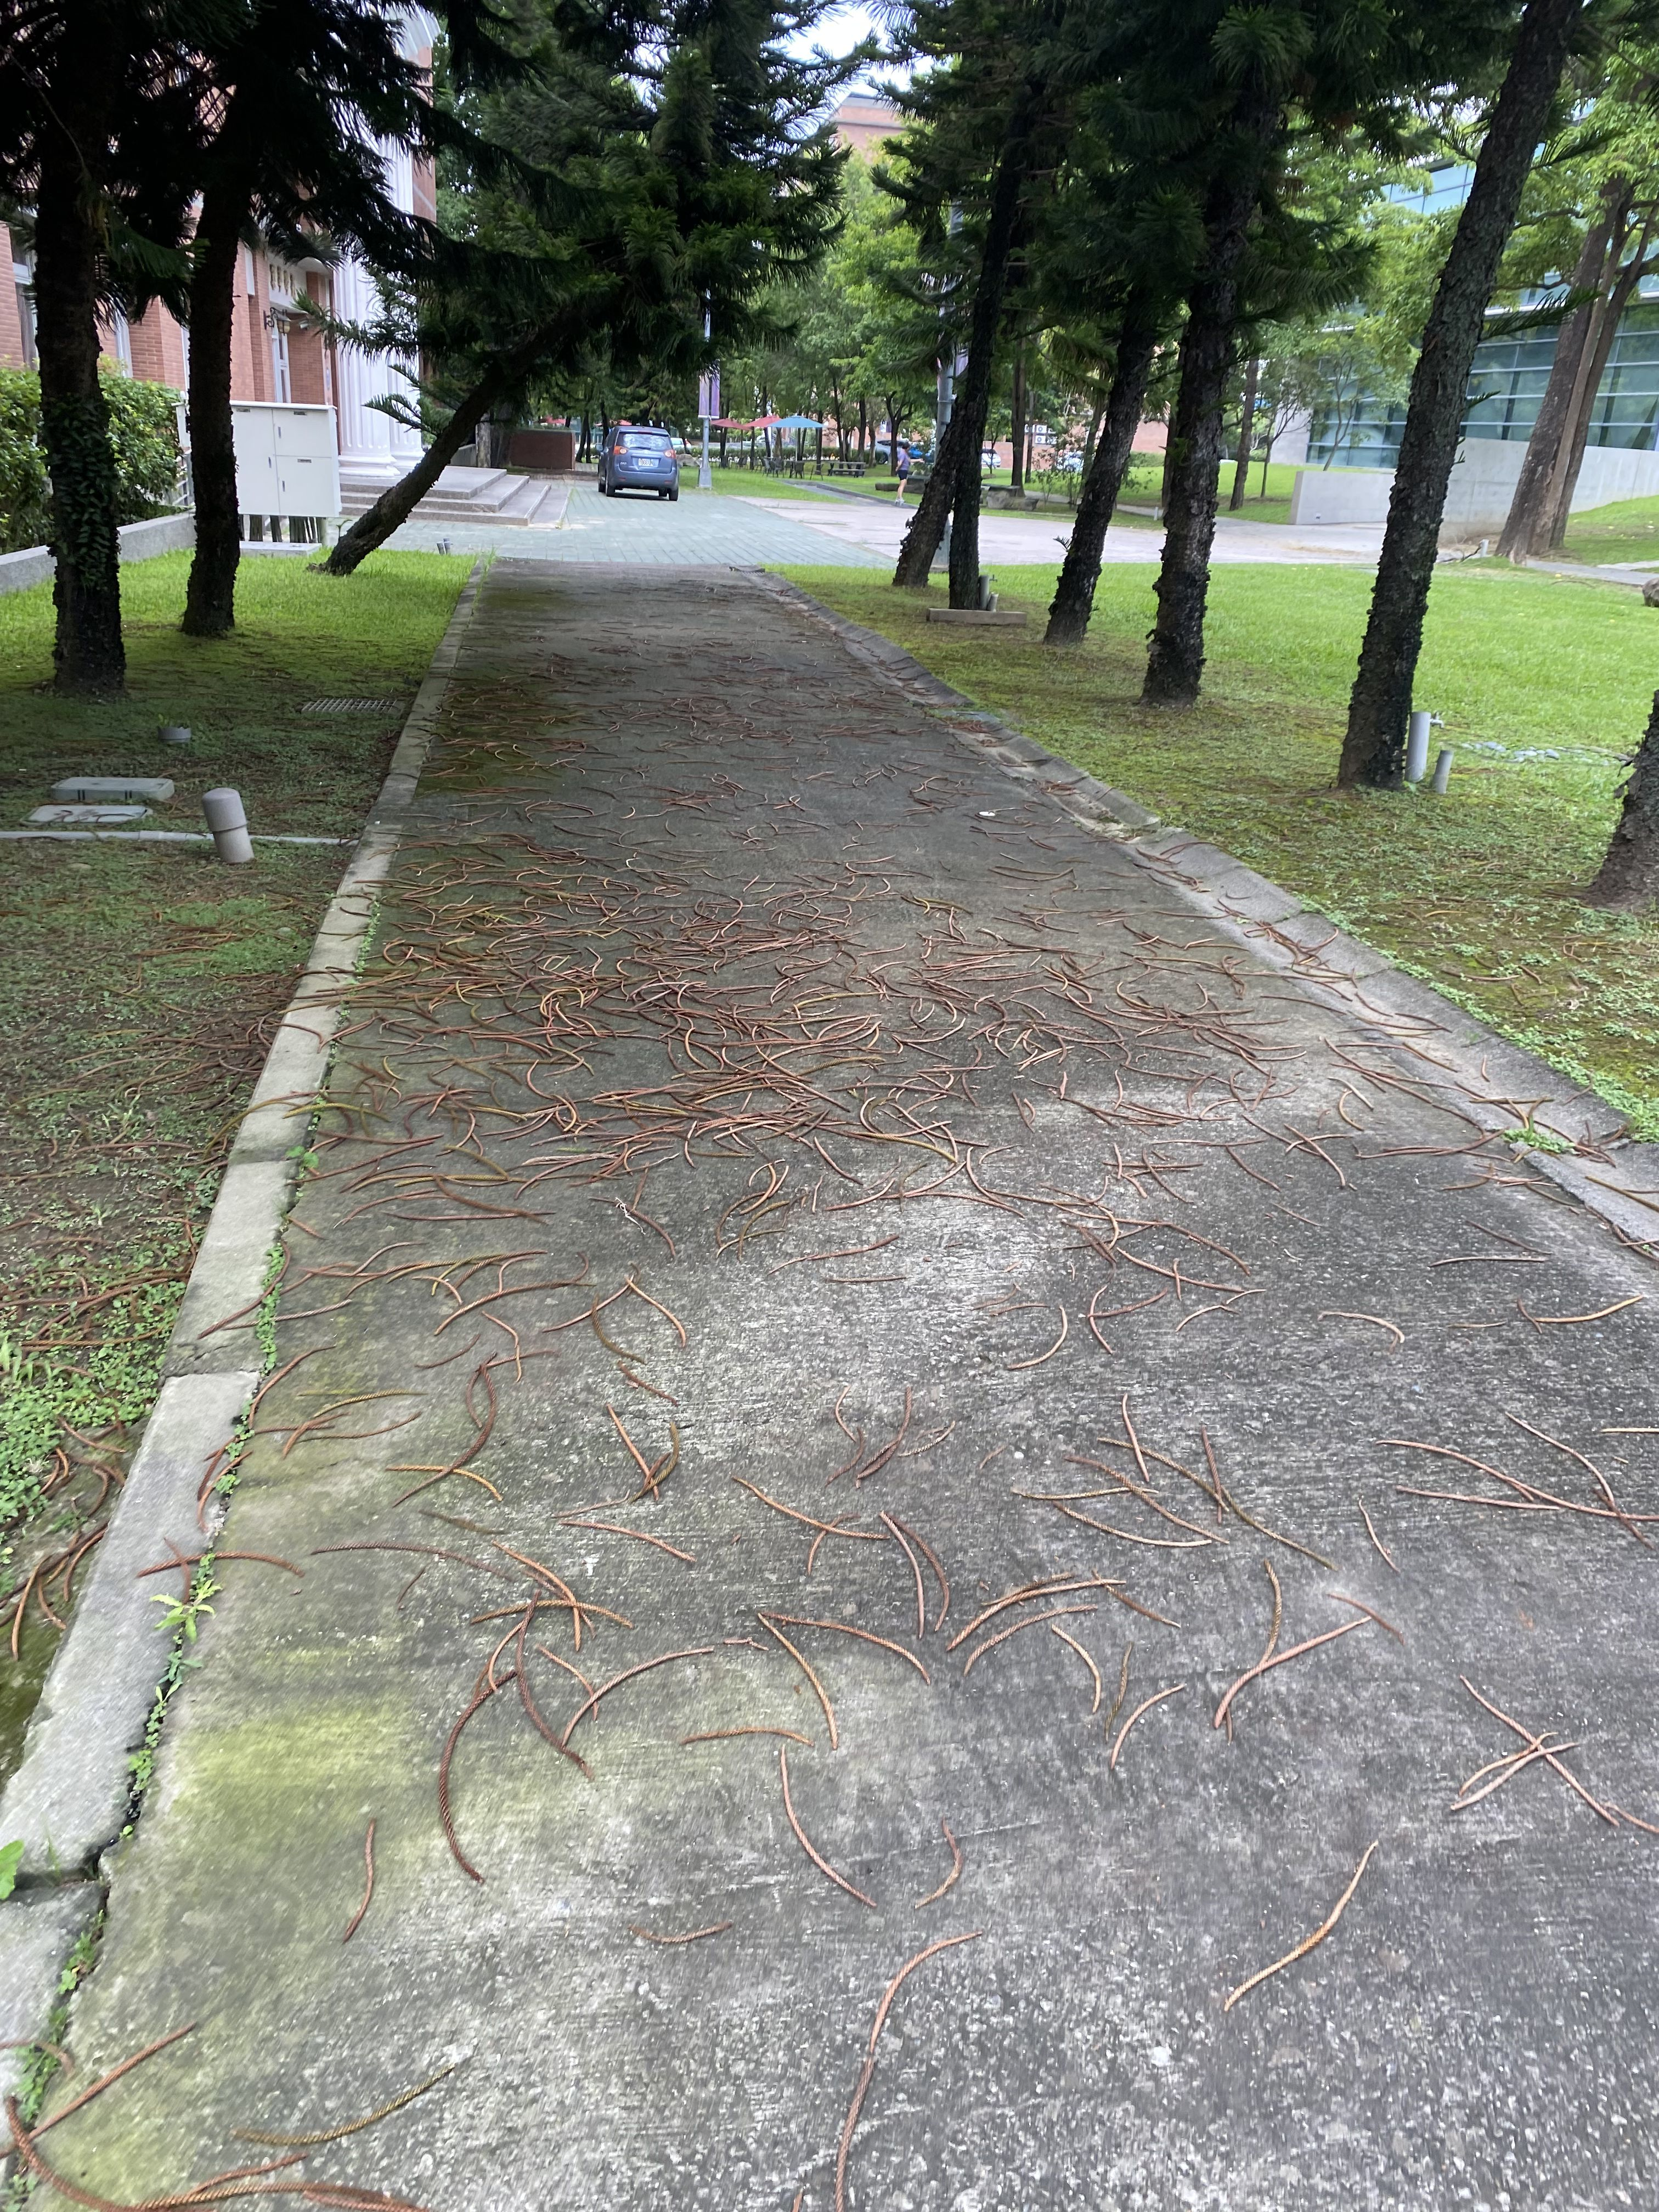sidewalk: (0, 481, 1659, 2212)
